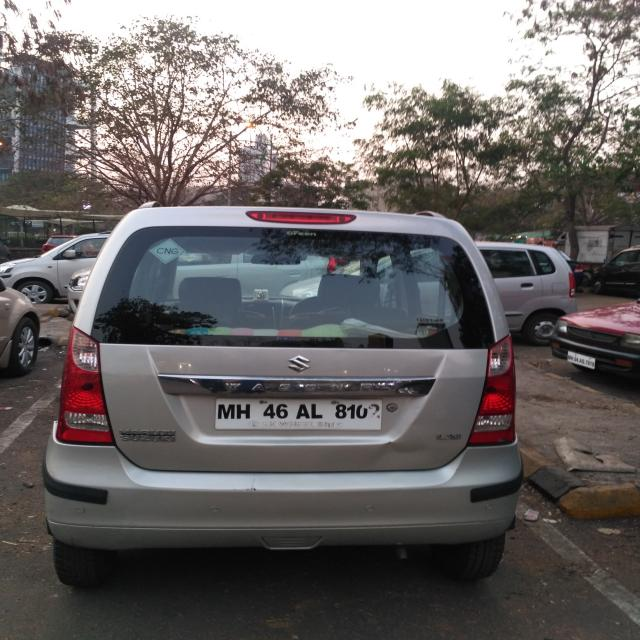Number-Plate: (216, 396, 385, 432)
